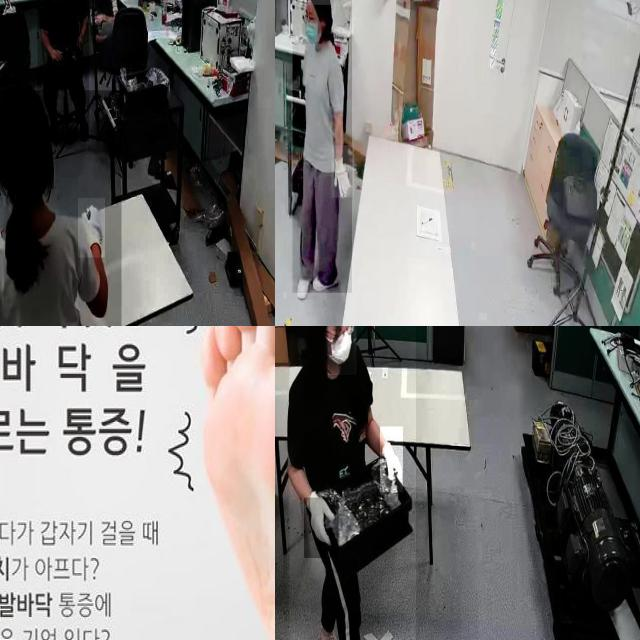Barefoots: (193, 326, 275, 640)
face_mask: (327, 326, 356, 374), (302, 2, 322, 44)
hand_glove: (304, 497, 339, 559), (78, 198, 105, 257), (380, 427, 403, 492), (332, 145, 354, 199)
hand_noglove: (48, 47, 64, 63), (93, 12, 103, 26), (76, 32, 84, 49)
head_nohelmet: (0, 80, 49, 134), (304, 0, 331, 5)
person: (289, 326, 416, 640), (0, 90, 122, 326), (292, 0, 352, 293), (37, 0, 89, 141), (91, 0, 124, 68)
shoes: (312, 258, 338, 300), (294, 260, 312, 302), (315, 618, 347, 640)
